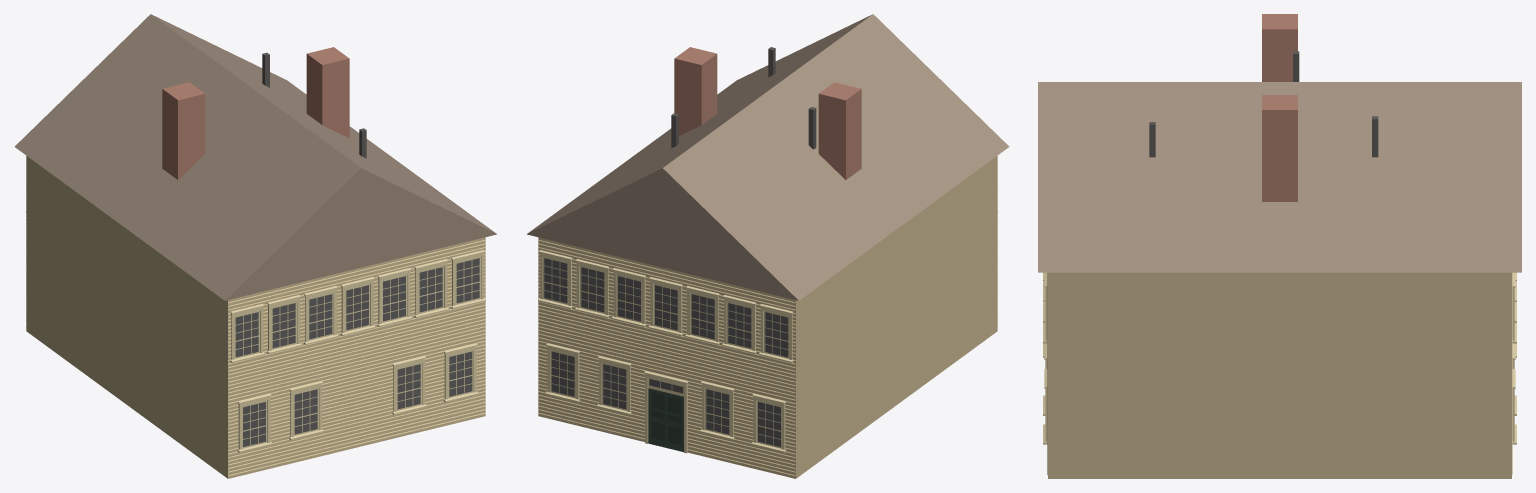
File: recon_1835_west_035__inferred_1835.glb
3 renders of one model, left to right at view 1: azimuth 30°, elevation 25°; view 2: azimuth 150°, elevation 25°; view 3: azimuth 270°, elevation 25°, orthographic. The views are drawn at different scales.
Parts seen in each view (by area): view 1: recon_1835_west_035__inferred_1835; view 2: recon_1835_west_035__inferred_1835; view 3: recon_1835_west_035__inferred_1835.
Part boxes in pixels (box(x1,y1,x2,y2)): recon_1835_west_035__inferred_1835: box(14, 14, 496, 478); recon_1835_west_035__inferred_1835: box(527, 14, 1009, 478); recon_1835_west_035__inferred_1835: box(1038, 14, 1521, 478).
Size of the model in its own units: 9.03 by 9.5 by 12.08.
